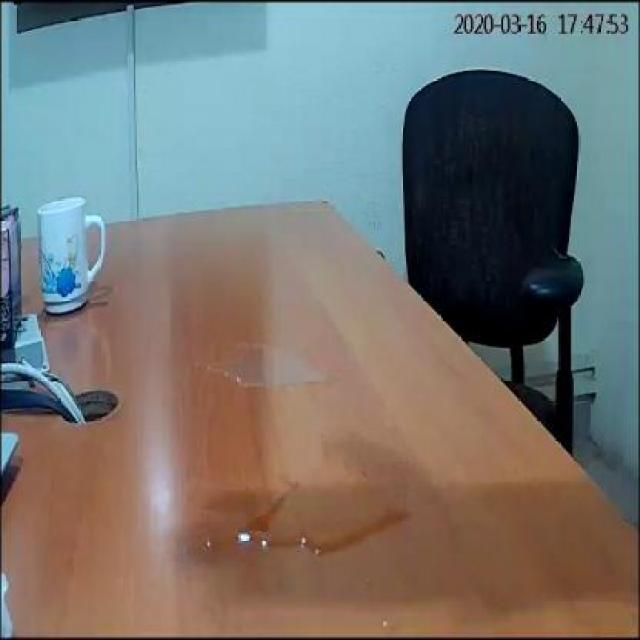spill: (239, 477, 407, 555), (204, 345, 328, 390)
